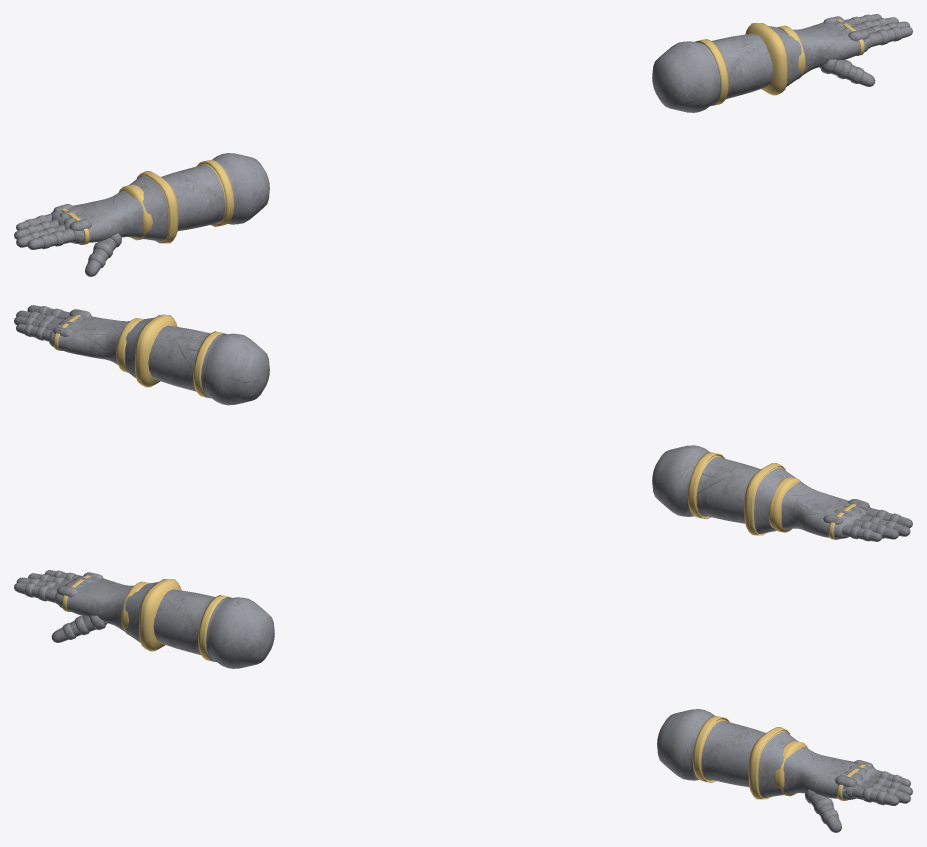
File: armor_arms.glb
3 renders of one model, top to bottom at view 1: azimuth 30°, elevation 25°; view 2: azimuth 150°, elevation 25°; view 3: azimuth 330°, elevation 25°, orthographic.
Parts seen in each view (by area): view 1: A_mixamorigLeftForeArm, A_mixamorigRightForeArm, A_mixamorigRightHand, A_mixamorigLeftHand; view 2: A_mixamorigLeftForeArm, A_mixamorigRightForeArm, A_mixamorigRightHand, A_mixamorigLeftHand; view 3: A_mixamorigRightForeArm, A_mixamorigLeftForeArm, A_mixamorigLeftHand, A_mixamorigRightHand.
Boxes of the visible parts, left/top/right/bottom form: A_mixamorigLeftForeArm: left=652, top=25, right=805, bottom=112; A_mixamorigRightForeArm: left=119, top=153, right=269, bottom=240; A_mixamorigRightHand: left=51, top=171, right=178, bottom=244; A_mixamorigLeftHand: left=745, top=16, right=869, bottom=95; A_mixamorigLeftForeArm: left=116, top=318, right=269, bottom=405; A_mixamorigRightForeArm: left=652, top=445, right=800, bottom=532; A_mixamorigRightHand: left=744, top=463, right=869, bottom=539; A_mixamorigLeftHand: left=49, top=309, right=177, bottom=387; A_mixamorigRightForeArm: left=121, top=581, right=274, bottom=668; A_mixamorigLeftForeArm: left=657, top=709, right=807, bottom=796; A_mixamorigLeftHand: left=748, top=727, right=875, bottom=800; A_mixamorigRightHand: left=57, top=572, right=181, bottom=651.
Size of the model in its own units: 1.72 by 0.1244 by 0.1353.
2 materials, 1 textured.
